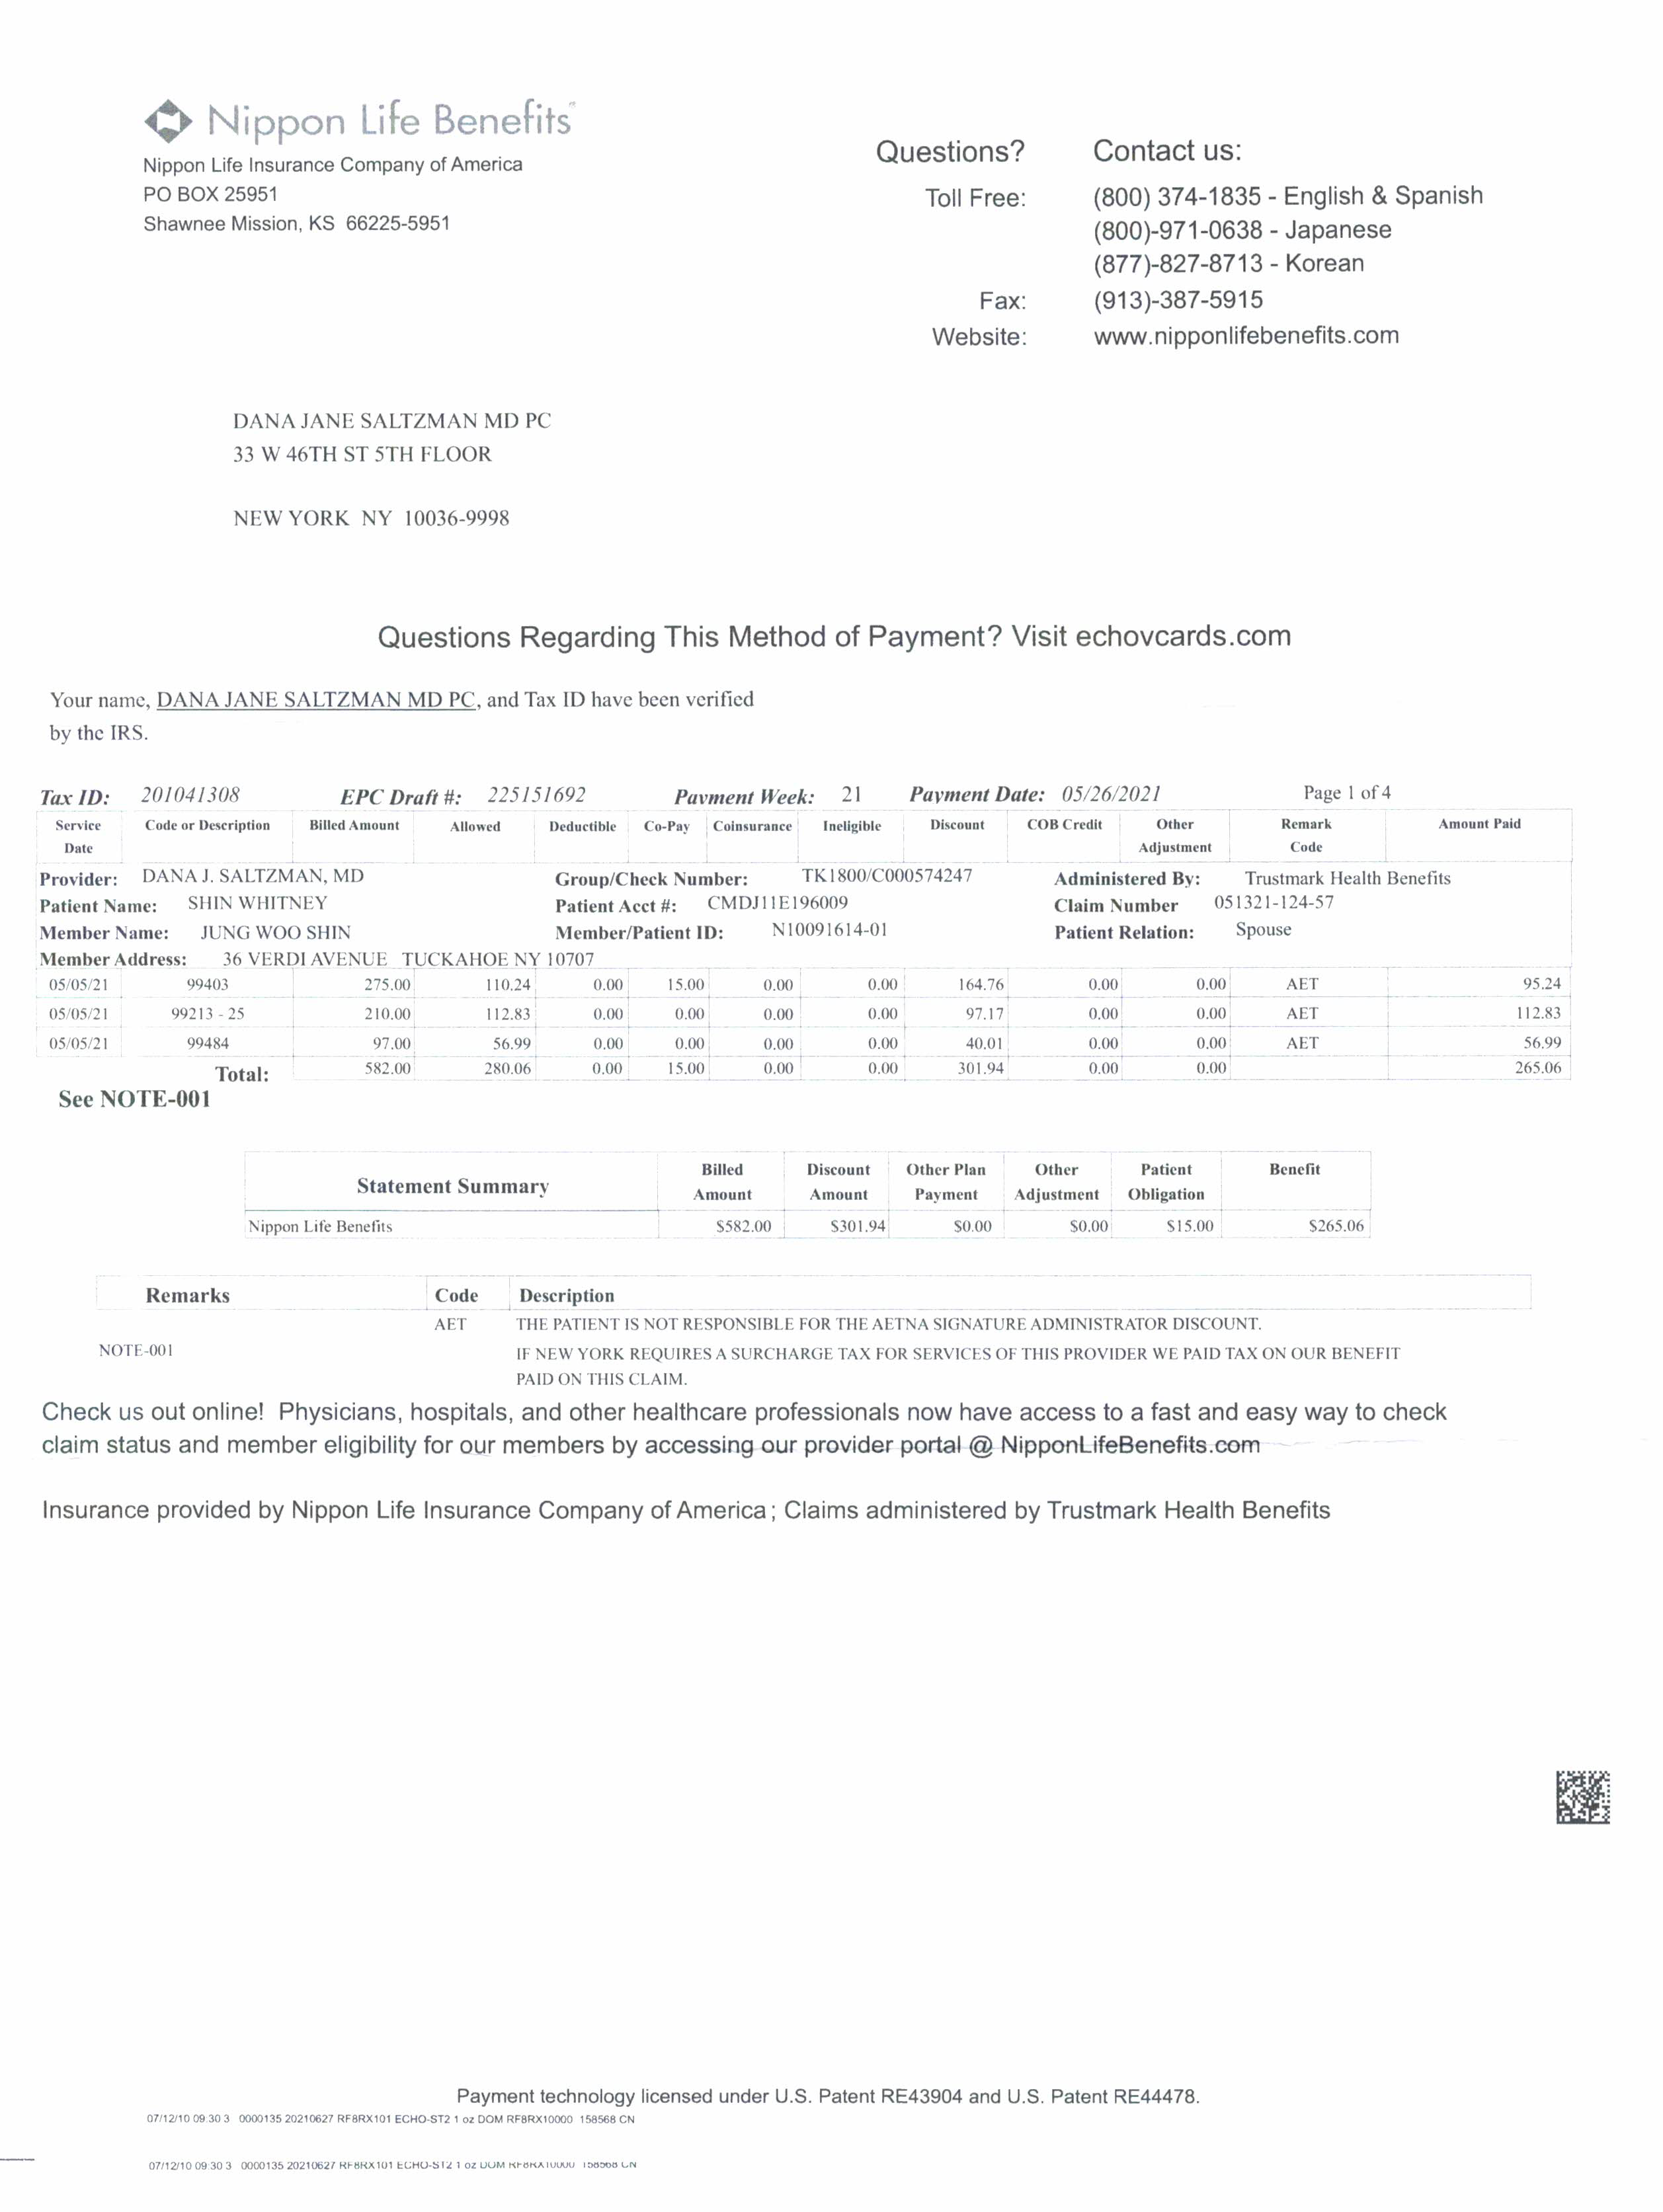data: (912, 171, 1509, 393)
table: (30, 768, 1591, 1084)
